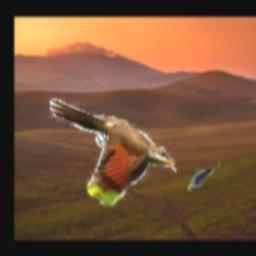Cuckoo: (50, 99, 176, 207), (189, 162, 222, 192)
